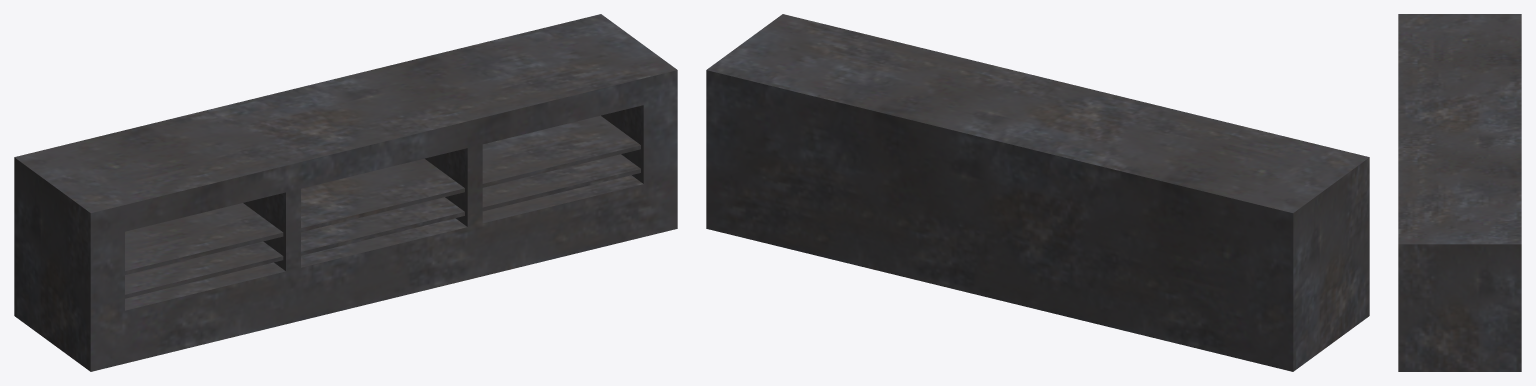
File: Oven.fbx
3 views of the same model, side by side, from view 1: azimuth 30°, elevation 25°; view 2: azimuth 150°, elevation 25°; view 3: azimuth 270°, elevation 25° (orthographic). The views are drawn at different scales.
Parts seen in each view (by area): view 1: Oven; view 2: Oven; view 3: Oven.
Boxes of the visible parts, left/top/right/bottom form: Oven: left=14, top=14, right=677, bottom=371; Oven: left=706, top=14, right=1369, bottom=371; Oven: left=1398, top=14, right=1521, bottom=371.
Size of the model in its own units: 1470 by 380 by 332.
Materials: 1 (1 with a texture image).
